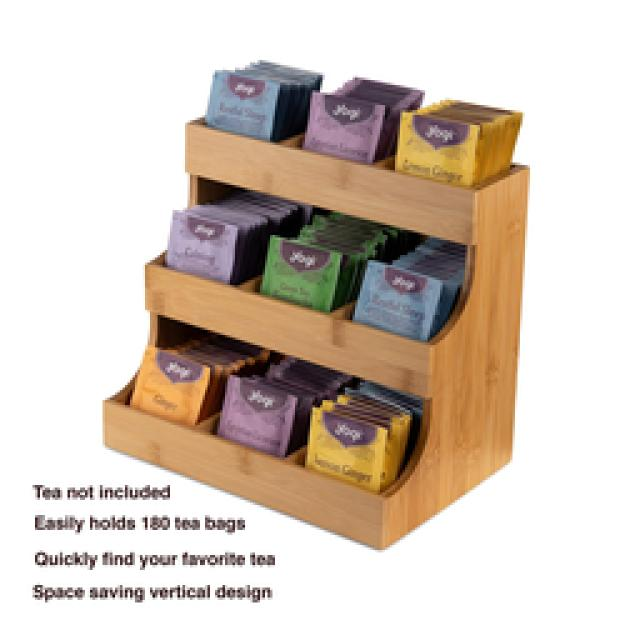tea-bags: (165, 190, 465, 338), (130, 335, 420, 488), (208, 62, 518, 185)
